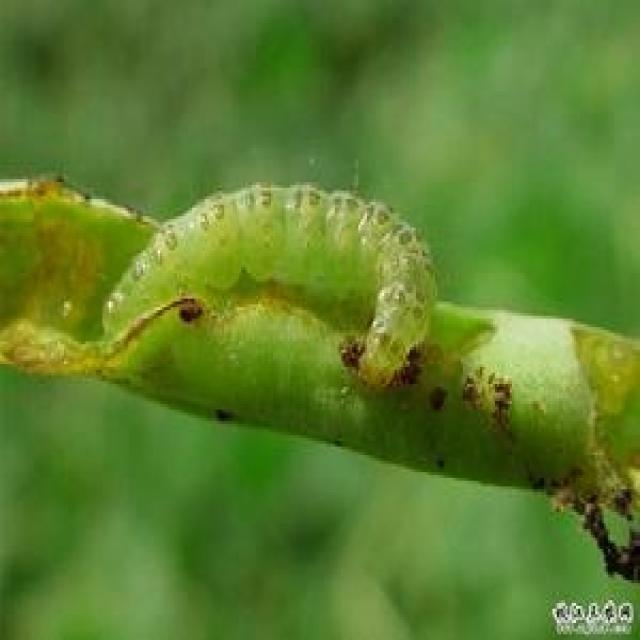peach borer: (97, 178, 430, 400)
